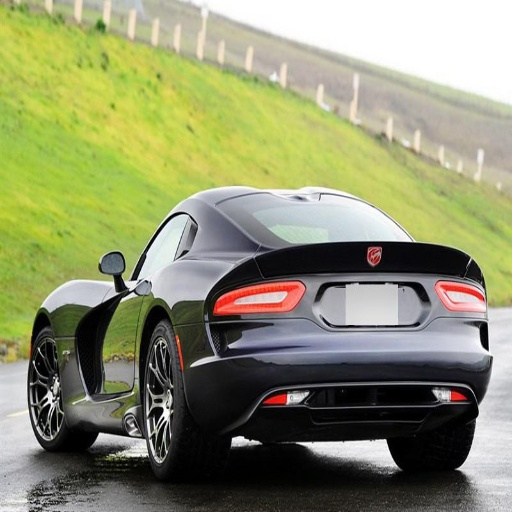back_bumper: (184, 312, 491, 432)
tailgate: (285, 242, 424, 326)
trunk: (308, 245, 463, 331), (352, 343, 426, 364)
